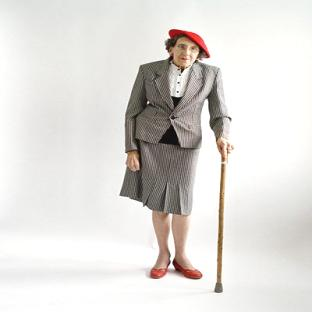Human: (120, 29, 233, 277)
